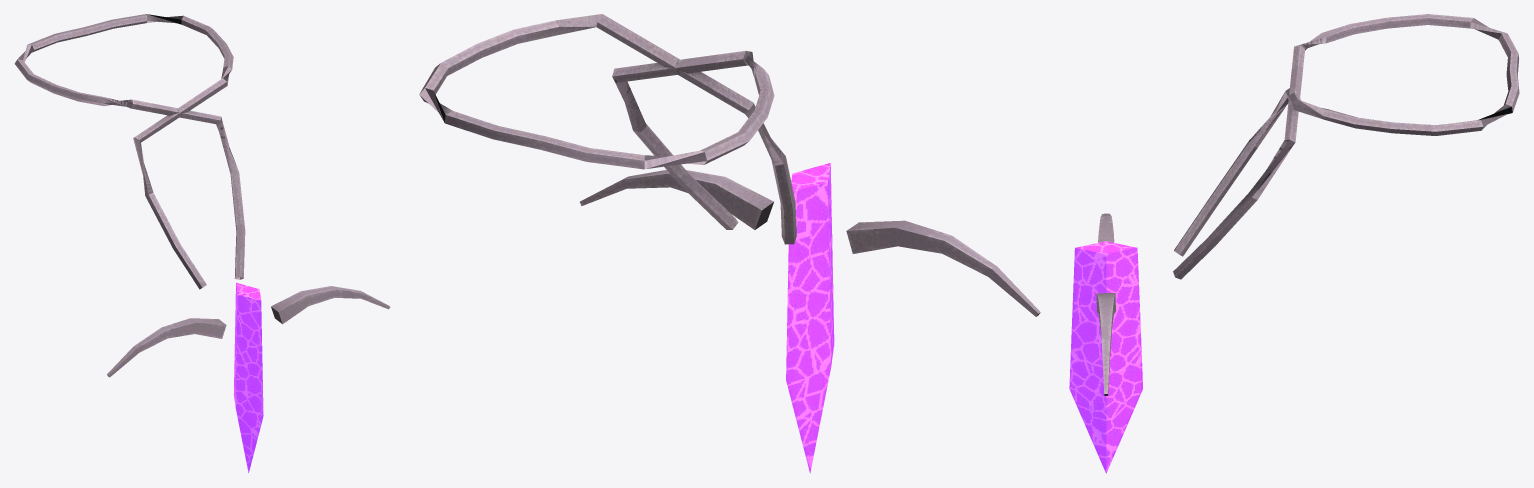
Rendered from Amuleto_da_Sombra_nivel75.glb.
3 renders of one model, left to right at view 1: azimuth 30°, elevation 25°; view 2: azimuth 150°, elevation 25°; view 3: azimuth 270°, elevation 25°, orthographic. The views are drawn at different scales.
Visible parts, largest first — view 1: amuleto_da_sombra_nivel75; view 2: amuleto_da_sombra_nivel75; view 3: amuleto_da_sombra_nivel75.
Part boxes in pixels (bbox=[...]): amuleto_da_sombra_nivel75: bbox=[14, 14, 390, 472]; amuleto_da_sombra_nivel75: bbox=[419, 14, 1040, 473]; amuleto_da_sombra_nivel75: bbox=[1069, 14, 1519, 473].
Bounding box in the file's own units: 0.2353 × 0.2605 × 0.2618.
Materials: 1 (1 with a texture image).
